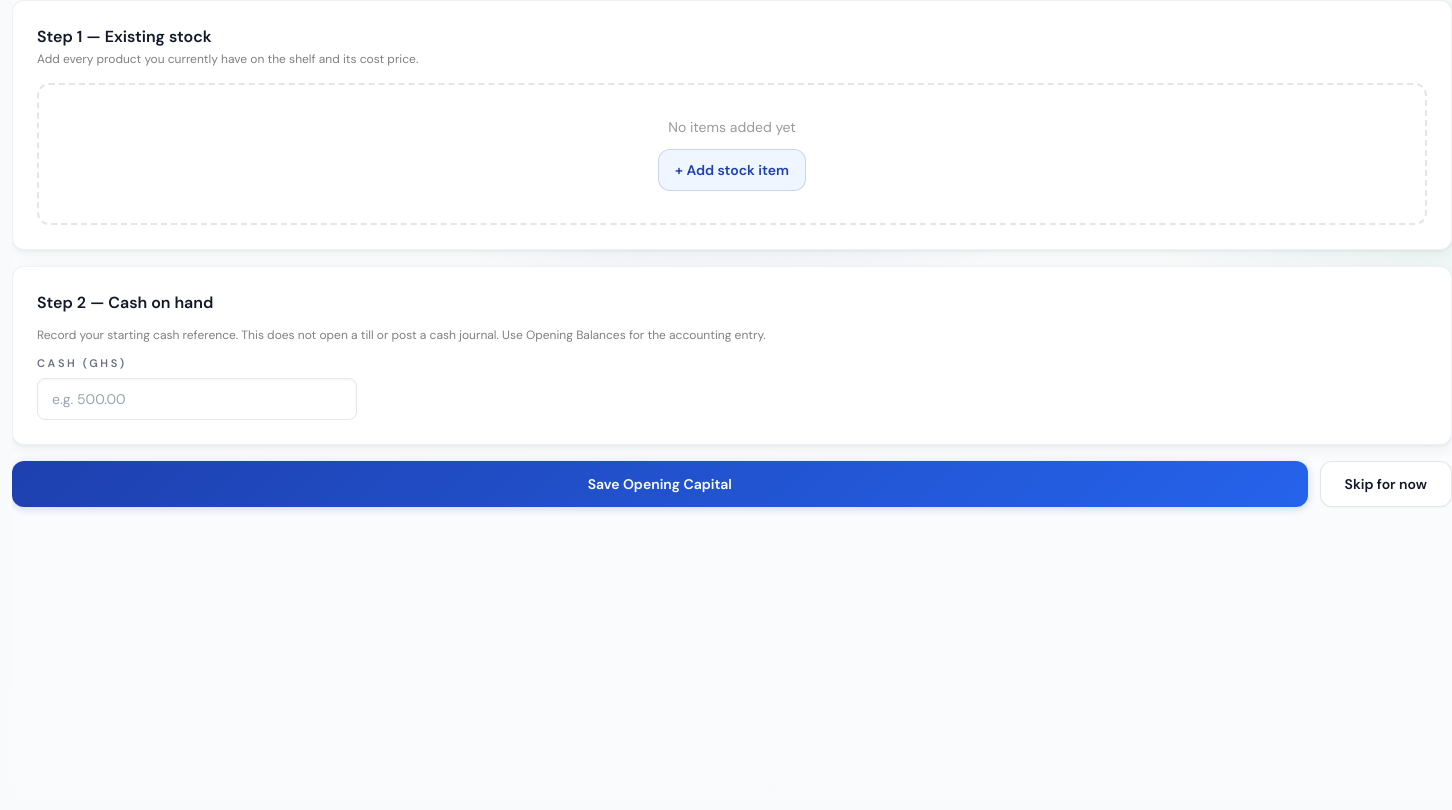
Test: opening stock onboarding continuation › keeps a failed save in the form without navigating
Click the button "+ Add stock item".
click(732, 170)  # box [658,149,806,191]
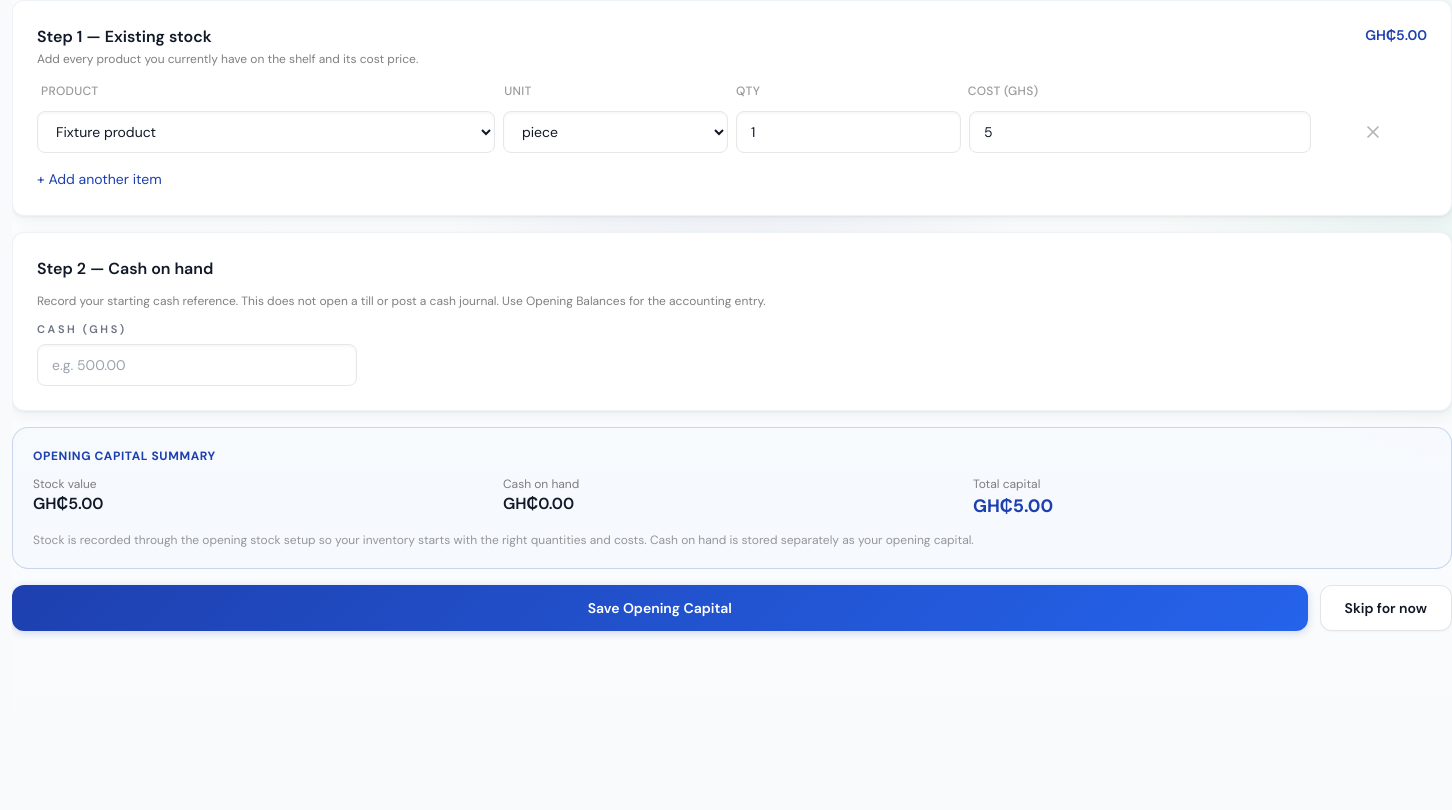
Click the button "Save Opening Capital".
click(660, 608)  # box [12,584,1308,630]
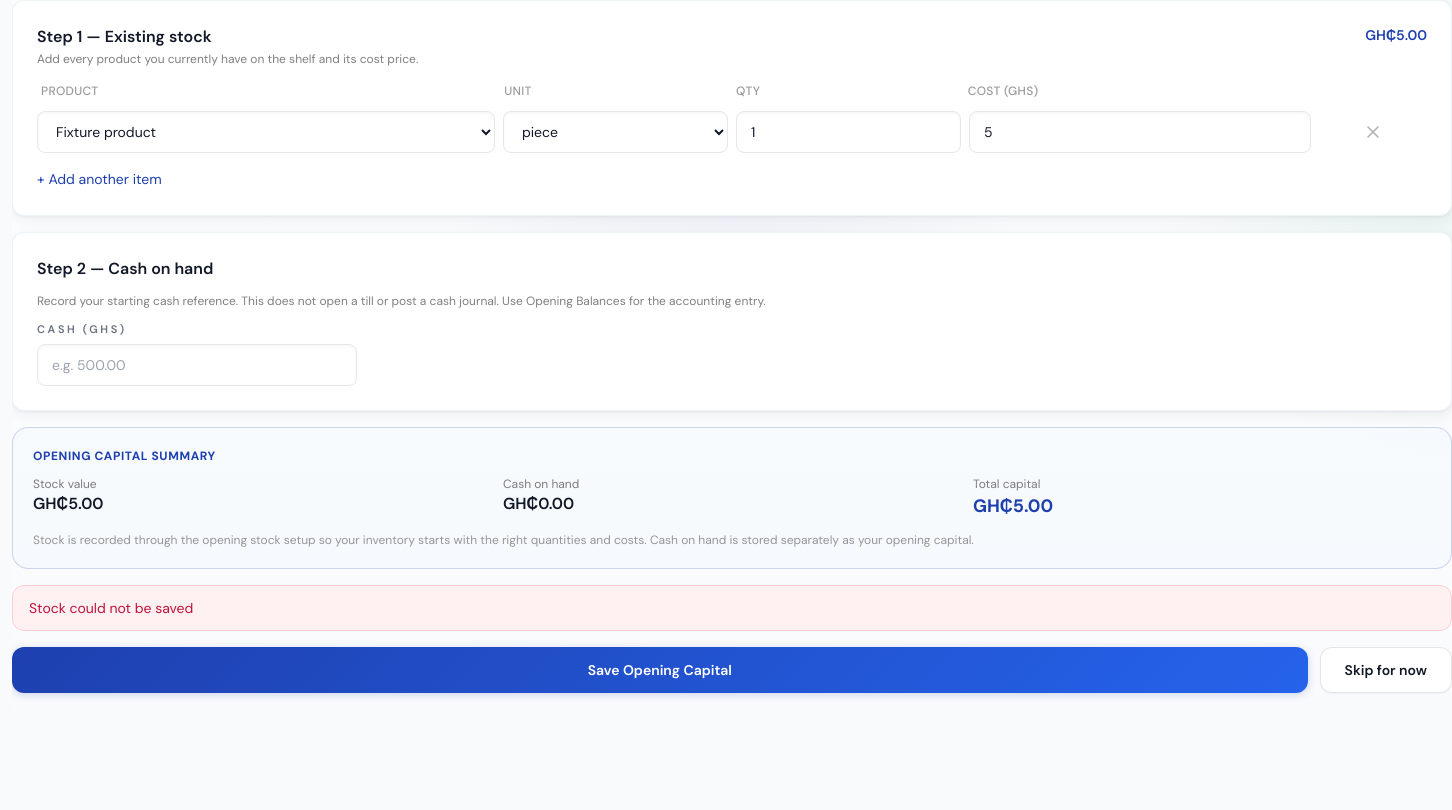
Expected: the text "Stock could not be saved" is shown, [12,584,1451,630]
